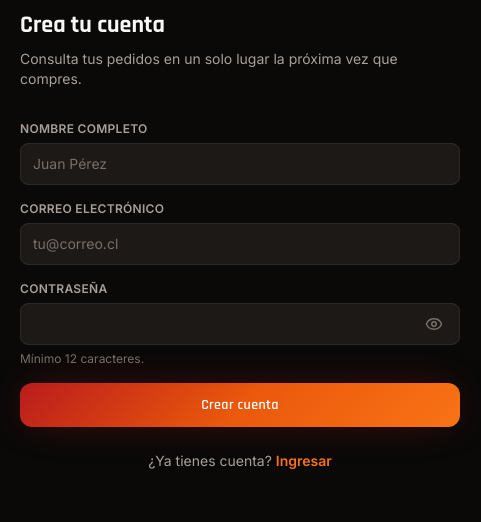
Test: RegisterPage › blocks a too-short password client-side instead of reaching the backend
This screenshot has width=481, height=522.
Type "Alguien" into the field labelled "Nombre completo" at (240, 164), box x1=20 y1=143 x2=460 y2=185
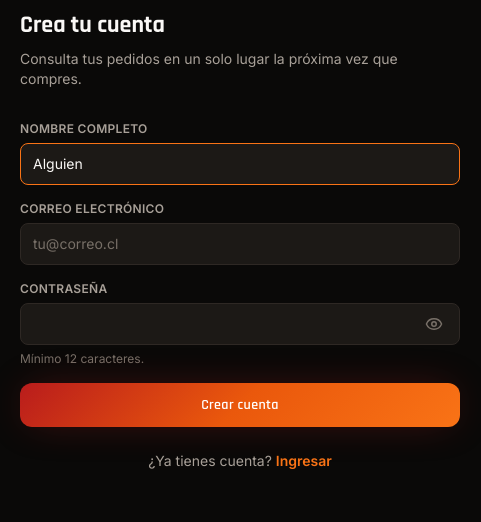
Type "alguien@example.com" into the field labelled "Correo electrónico" at (240, 244), box x1=20 y1=223 x2=460 y2=265
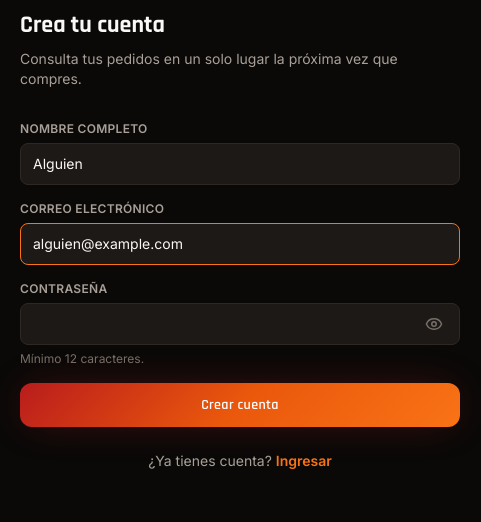
Type "corta1" into the password field labelled "Contraseña" at (240, 324), box x1=20 y1=303 x2=460 y2=345
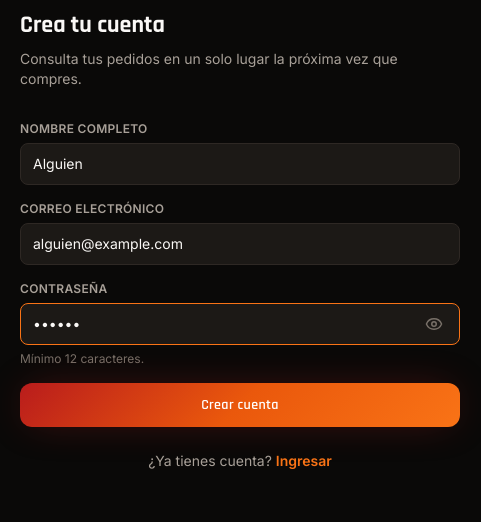
Click the button "Crear cuenta" at (240, 405), box x1=20 y1=383 x2=460 y2=427
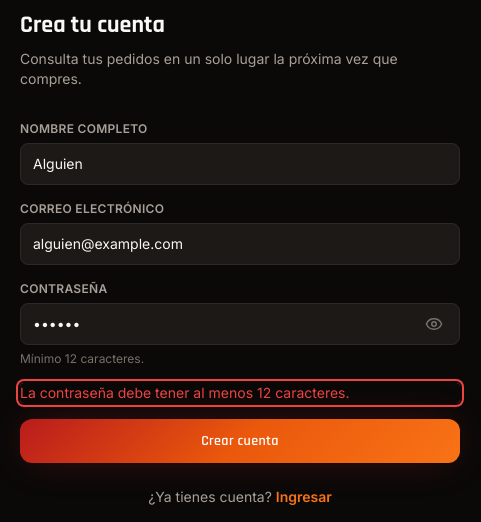
Check: the message reads "La contraseña debe tener al menos 12 caracteres.", box x1=20 y1=384 x2=350 y2=401
